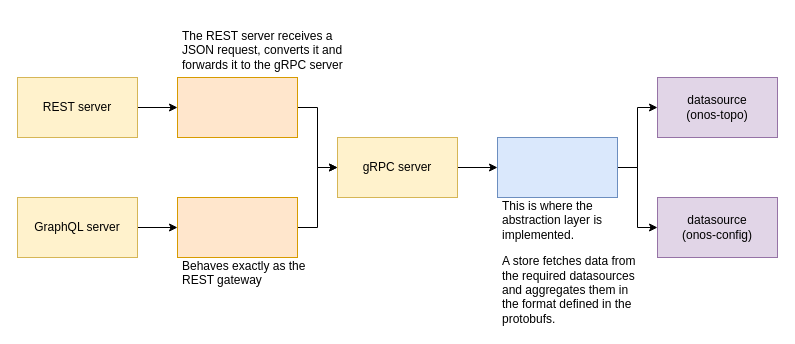
This 795x344 diagram has some shape labels left out. The shapes that lost their labels are listed below. From the top down, each one's centre as x and y in pixels, then its label:
point 237,107: REST gateway
point 557,167: store
point 237,227: GraphQL gateway
